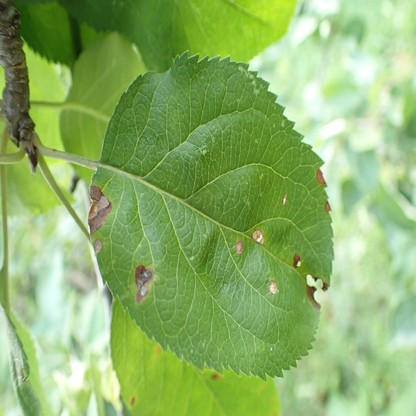frogeye_leaf_spot: (87, 187, 112, 232), (305, 275, 328, 310), (135, 266, 153, 304), (251, 230, 265, 244), (316, 169, 326, 184), (95, 238, 103, 253), (293, 253, 301, 268), (269, 280, 277, 293), (235, 242, 243, 254), (325, 202, 331, 211)
